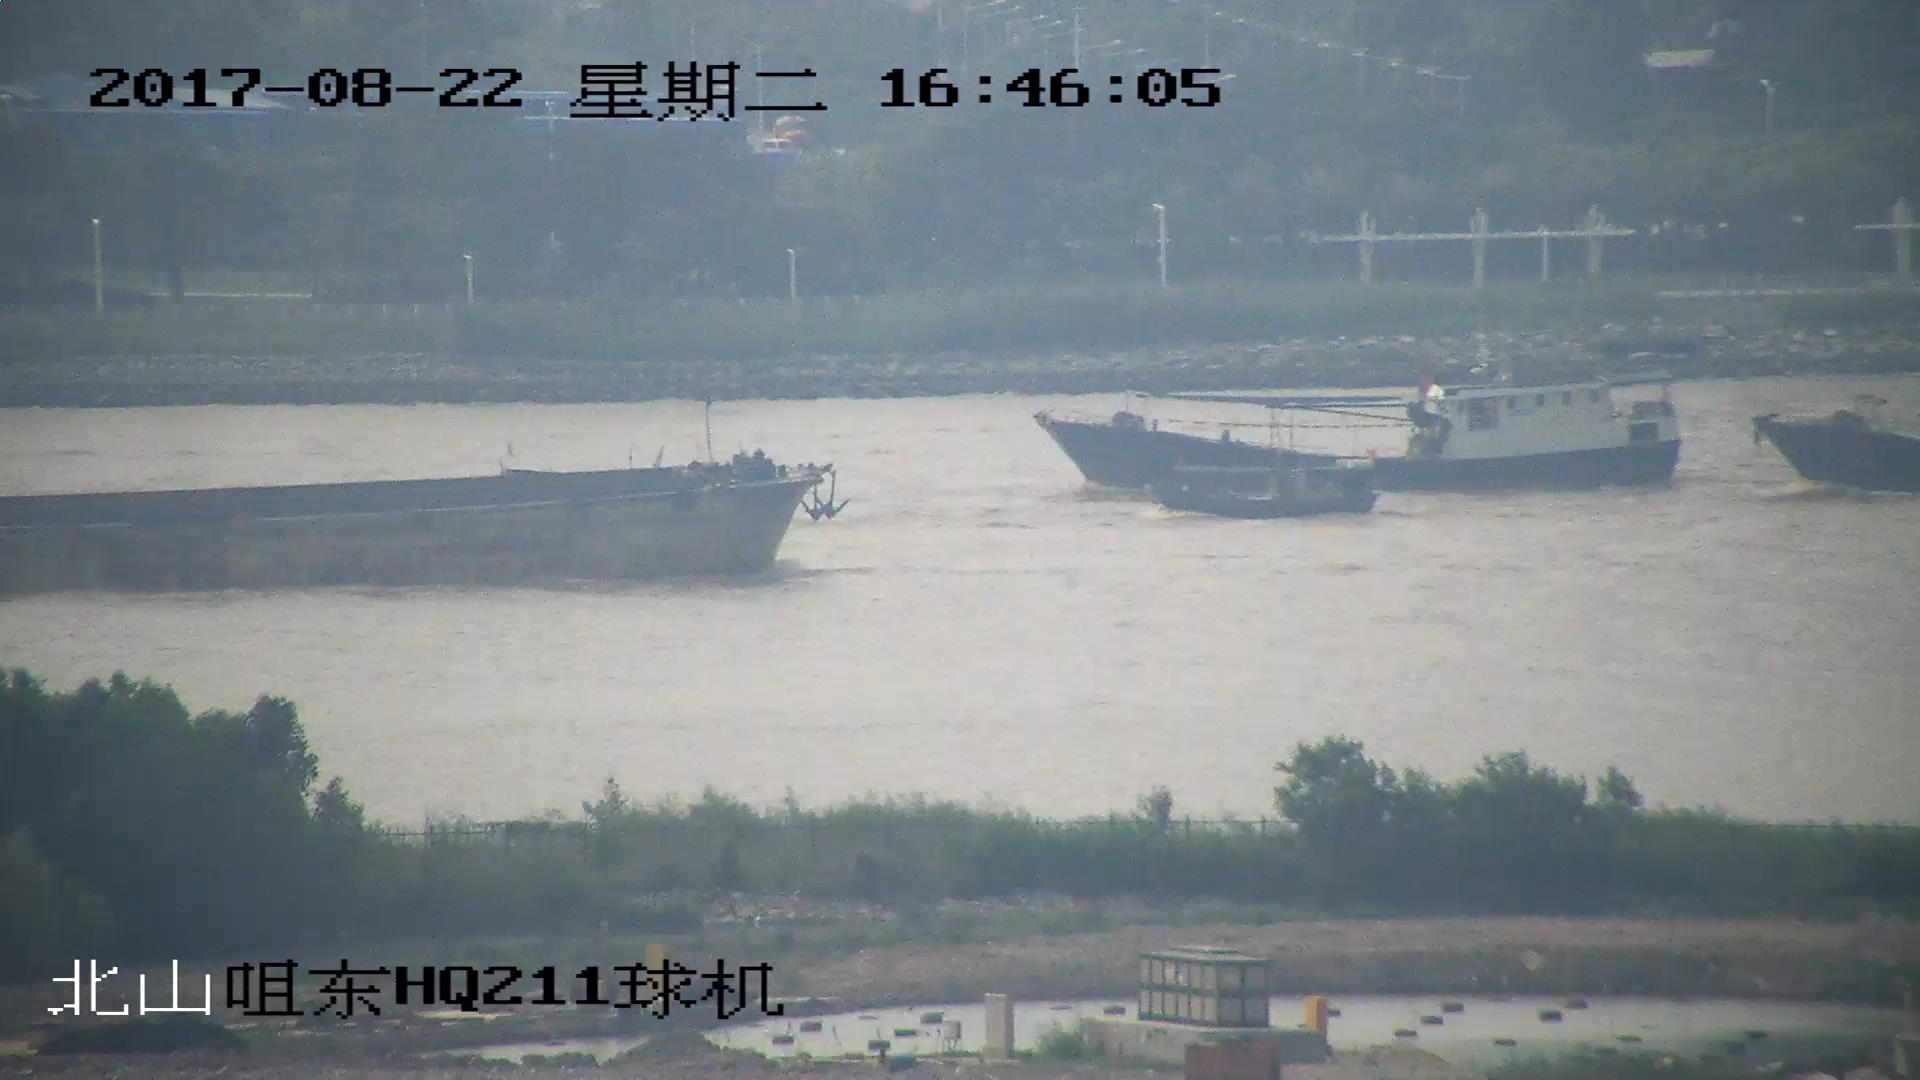bulk cargo carrier: (1, 459, 836, 588)
fishing boat: (1033, 369, 1682, 499), (1150, 452, 1372, 520), (1763, 399, 1920, 493)
